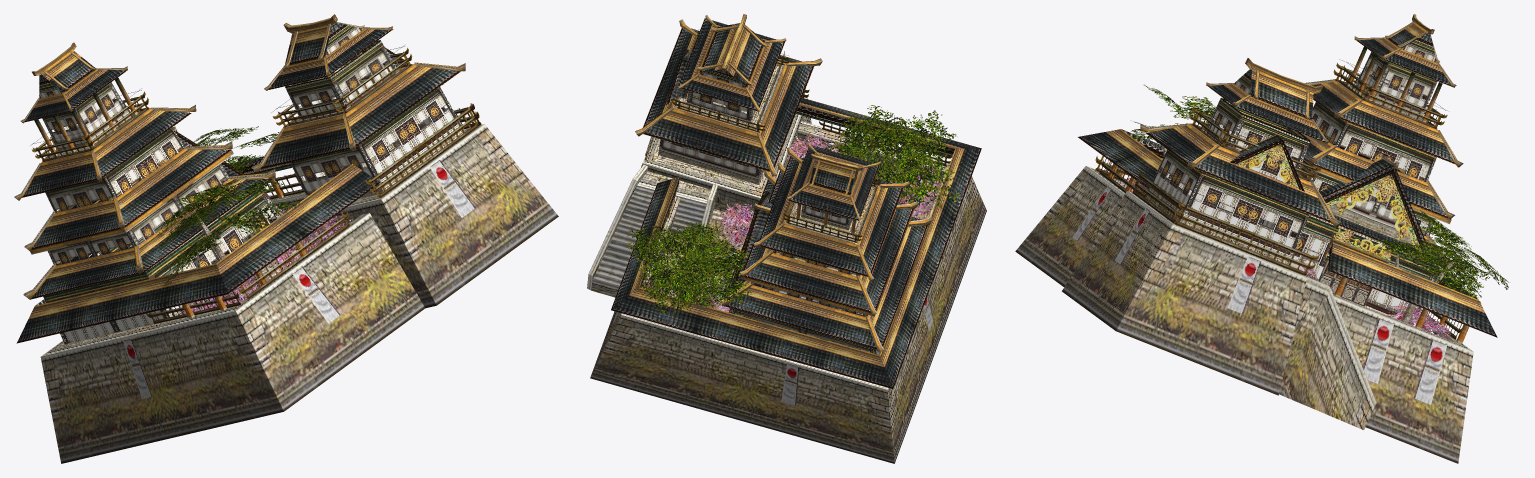
Rendered from imperial_palace.fbx.
The picture shows the model from 3 angles, left to right: view 1: azimuth 30°, elevation 25°; view 2: azimuth 150°, elevation 25°; view 3: azimuth 270°, elevation 25°; orthographic projection. The views are drawn at different scales.
Visible parts, largest first — view 1: Object01, Object03, Object02; view 2: Object01, Object02, Object03; view 3: Object01, Object03, Object02.
Boxes of the visible parts, bbox=[...] form: Object01: bbox=[14, 14, 558, 463]; Object03: bbox=[42, 40, 465, 343]; Object02: bbox=[157, 126, 299, 287]; Object01: bbox=[587, 14, 986, 463]; Object02: bbox=[627, 105, 959, 314]; Object03: bbox=[658, 91, 880, 355]; Object01: bbox=[1015, 14, 1497, 463]; Object03: bbox=[1145, 52, 1440, 322]; Object02: bbox=[1129, 84, 1508, 323].
Size of the model in its own units: 17.66 by 18.93 by 18.
2 materials, 2 textured.
